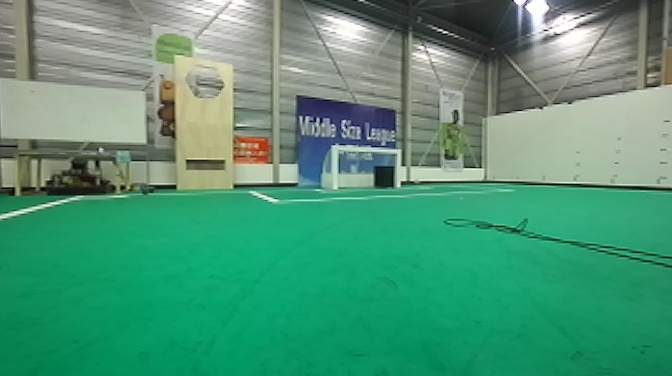goalpost: (328, 142, 342, 190), (395, 149, 402, 191)
